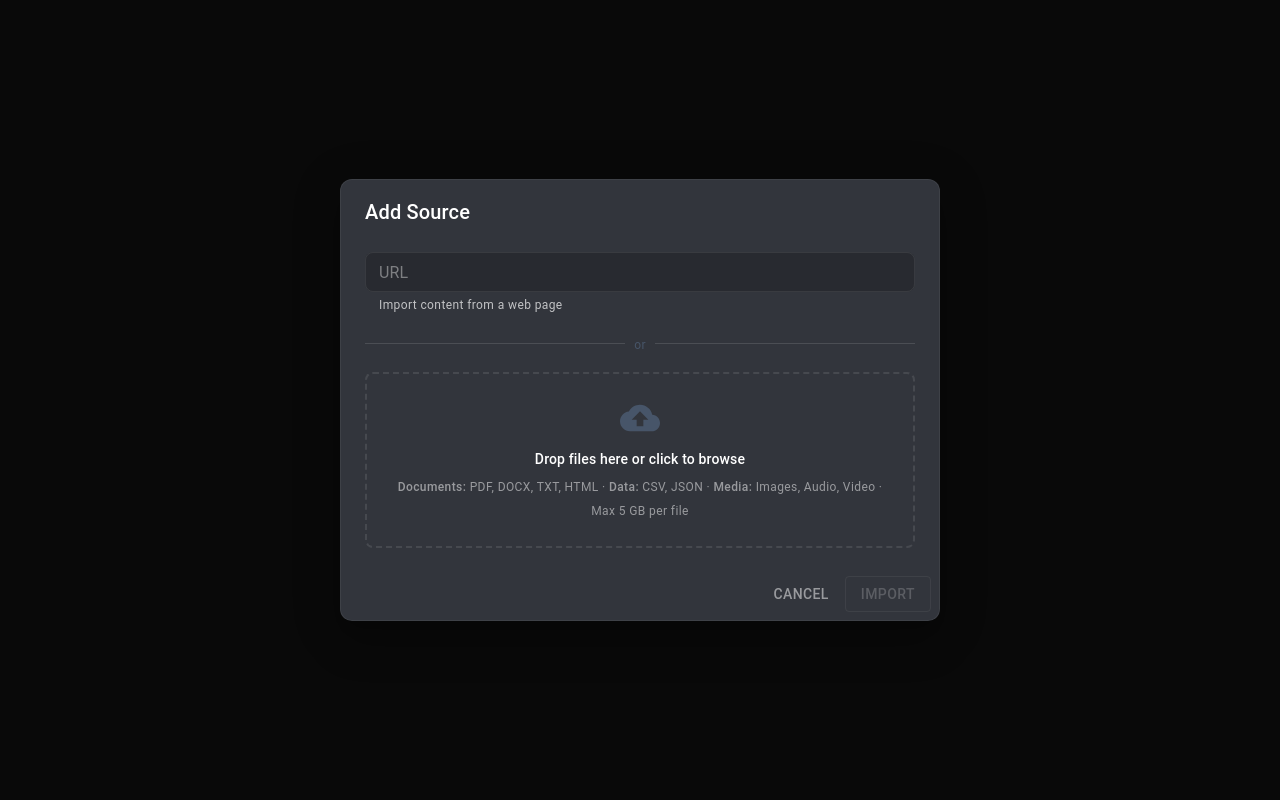
Test: <UploadDialog /> site offer › says the detected packs apply straight away once the whole site is chosen
This screenshot has width=1280, height=800.
Type "https://docs.example.com/docs" into the field labelled "URL" at (640, 272), box [365, 252, 915, 292]
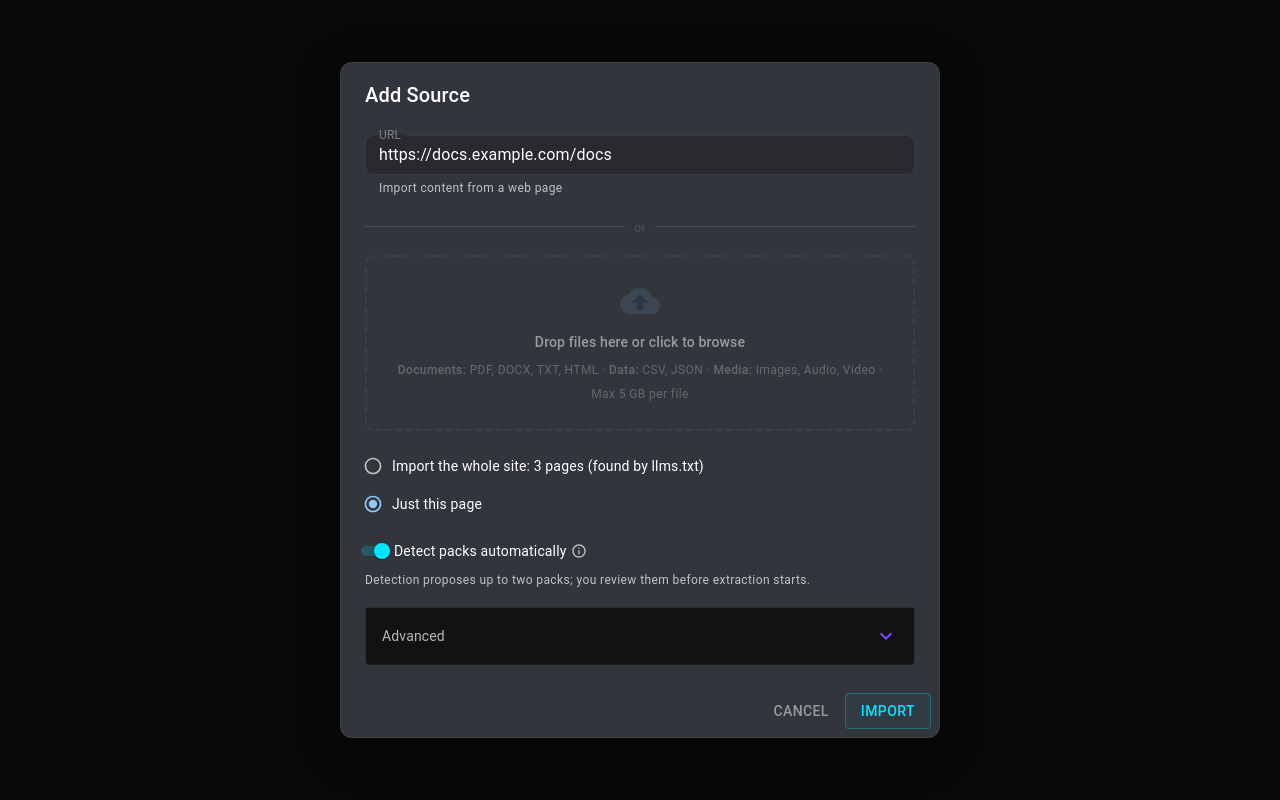
Expected: the text with test id "pack-select-helper" shows "you review them before extraction starts", [365, 573, 810, 587]
Click the radio button labelled "Import the whole site: 3 pages (found by llms.txt)" at (533, 466), box [363, 456, 704, 476]
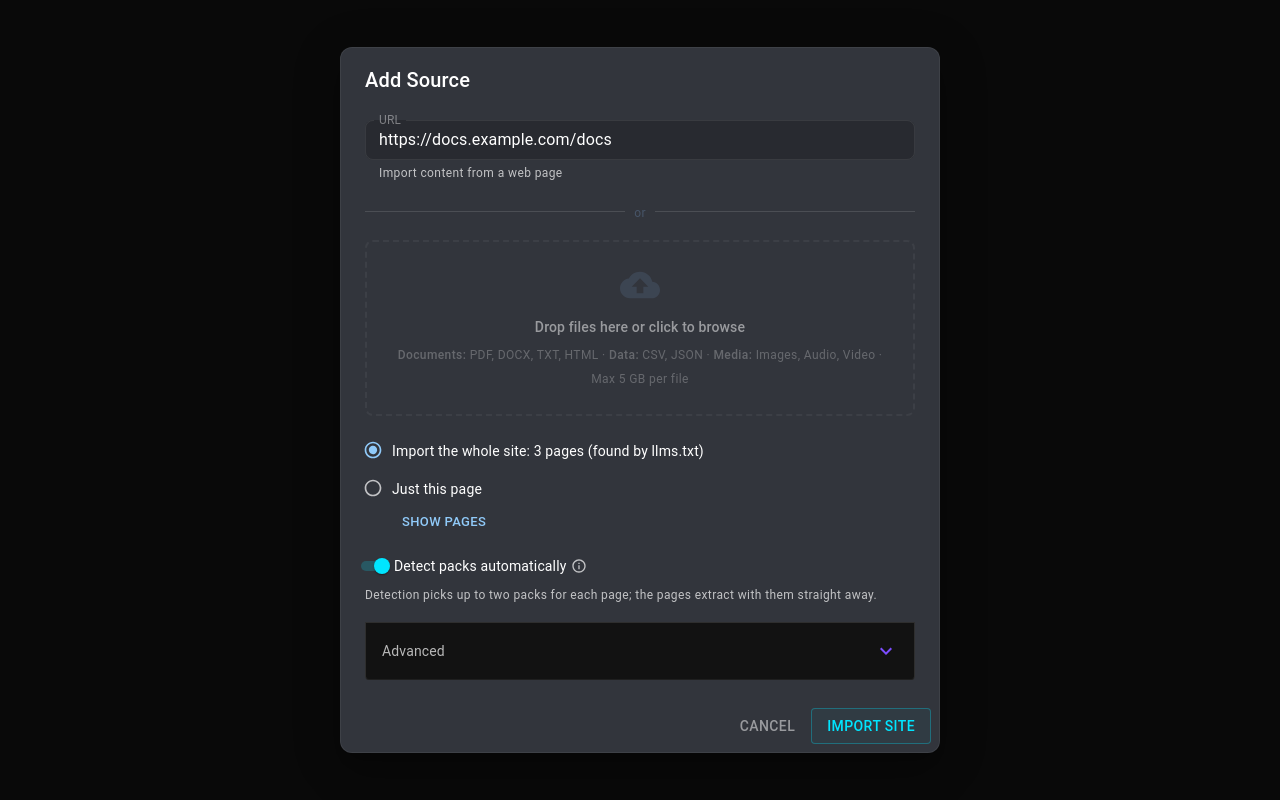
Expected: the text with test id "pack-select-helper" shows "the pages extract with them straight away", [365, 588, 877, 602]
Hover over the element named "What are packs?" at (578, 566), box [570, 558, 586, 574]
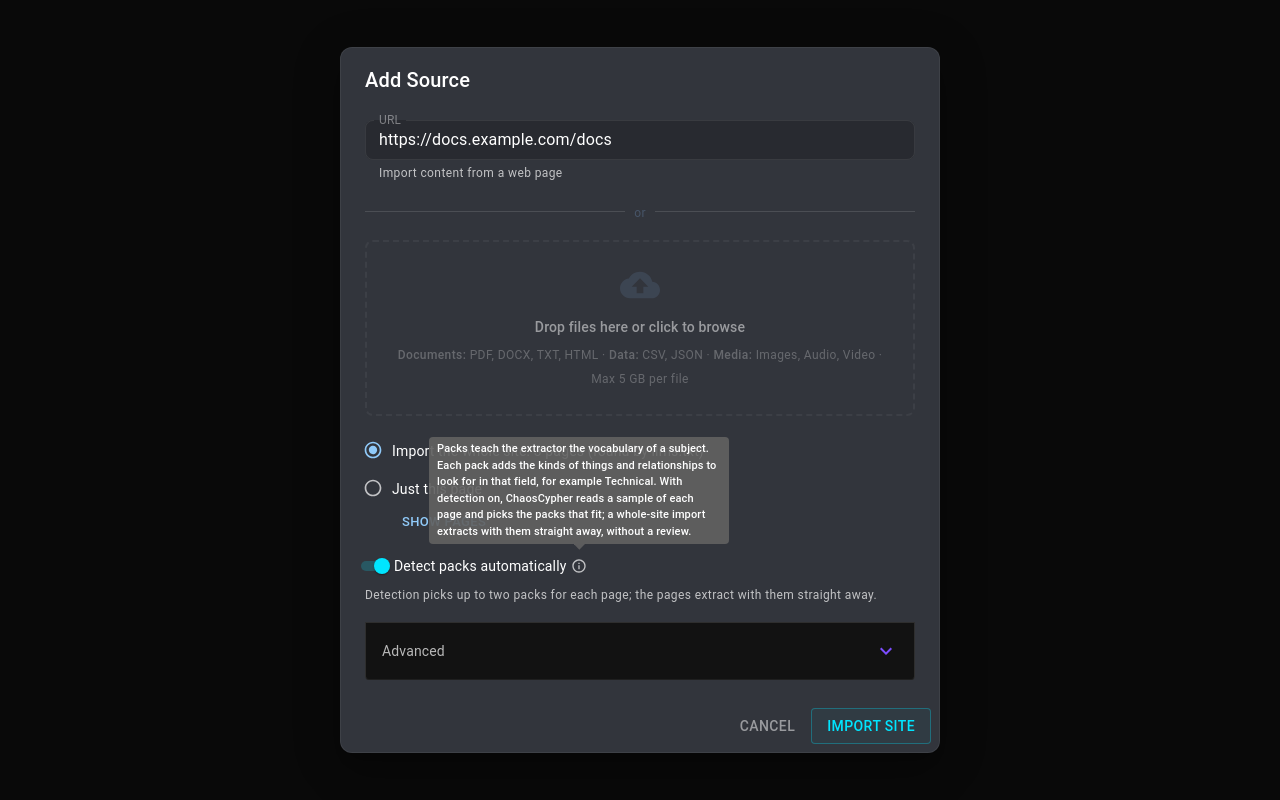
Expected: the tooltip shows "a whole-site import extracts with them straight away, without a review.", [437, 442, 716, 538]
